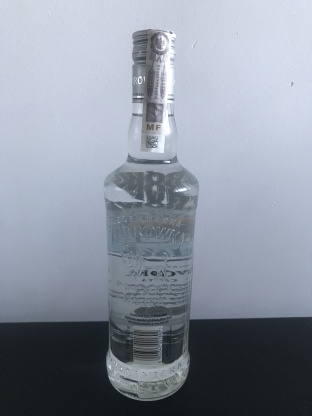nakretka: (129, 25, 179, 107)
